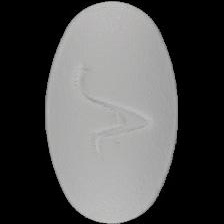33261-895: (0, 0, 224, 224)
